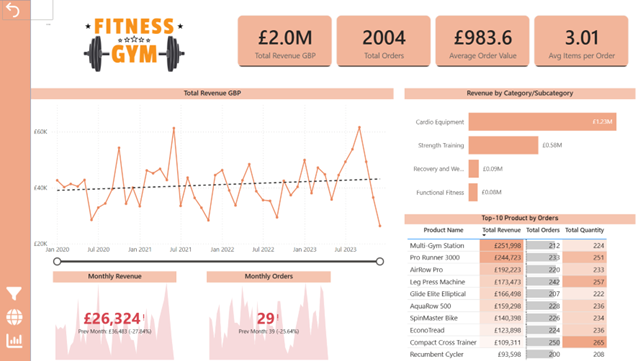

The page's visual inventory and layout, read from the dashboard file:
{"tool":"powerbi","page":{"name":"Page 1","canvas":[1280,720],"ordinal":0},"visuals":[{"type":"cardVisual","fields":{"Data":["Table Measures.Total Revenue GBP","Table Measures.Total Orders","Table Measures.Average Order Value","Table Measures.Avg Items per Order"]},"box":[467.7,25.4,789.2,113.1],"z":0},{"type":"lineChart","fields":{"Category":["date.date.Variation.Date Hierarchy.Year","date.date.Variation.Date Hierarchy.Quarter","date.date.Variation.Date Hierarchy.Month"],"Y":["Table Measures.Total Revenue GBP"]},"box":[63.6,175.5,719.1,354.5],"z":1000},{"type":"barChart","title":"Revenue by Category/Subcategory","fields":{"Category":["products.category_name Hierarchy.category_name","products.category_name Hierarchy.subcategory_name","date.date"],"Y":["Table Measures.Total Revenue GBP"]},"box":[804.6,175.6,457.8,249.8],"z":2000},{"type":"kpi","title":"Monthly Revenue","fields":{"Goal":["Table Measures.Previous Month Revenue"],"Indicator":["Table Measures.Total Revenue GBP"],"TrendLine":["date.Start of Month"]},"box":[107.3,539.3,245.4,180.8],"z":3000},{"type":"kpi","title":"Monthly Orders","fields":{"Goal":["Table Measures.Previous Month Orders"],"Indicator":["Table Measures.Total Orders"],"TrendLine":["date.Start of Month"]},"box":[412.2,539.3,246.2,180.8],"z":4000},{"type":"tableEx","title":"Top-10 Product by Revenue","fields":{"Values":["products.product_name","Table Measures.Total Revenue GBP","Table Measures.Total Orders","Table Measures.Total Quantity"]},"box":[804.6,425.4,457.8,294.6],"z":5000},{"type":"image","box":[94.6,0,347.7,175.4],"z":6000},{"type":"shape","box":[0,0,63.5,720.1],"z":7000},{"type":"actionButton","box":[7.3,0,100,40],"z":8000},{"type":"actionButton","title":"Open sel","box":[10.8,564.6,40.8,38.5],"z":9000},{"type":"actionButton","box":[10.8,610,40.8,40],"z":11000},{"type":"actionButton","box":[10.8,656.9,40.8,40],"z":12000}]}

Visuals, with their boxes in screenshot pixels (x1, y1, x2, y2), scaled from the page's 1280x720 canvas onto the 643x361 screenshot:
cardVisual - Table Measures.Total Revenue GBP x Table Measures.Total Orders: (x1=235, y1=13, x2=631, y2=69)
lineChart - date.date.Variation.Date Hierarchy.Year x date.date.Variation.Date Hierarchy.Quarter: (x1=32, y1=88, x2=393, y2=266)
"Revenue by Category/Subcategory" barChart: (x1=404, y1=88, x2=634, y2=213)
"Monthly Revenue" kpi: (x1=54, y1=270, x2=177, y2=360)
"Monthly Orders" kpi: (x1=207, y1=270, x2=331, y2=360)
"Top-10 Product by Revenue" tableEx: (x1=404, y1=213, x2=634, y2=360)
image: (x1=48, y1=0, x2=222, y2=88)
shape: (x1=0, y1=0, x2=32, y2=360)
actionButton: (x1=4, y1=0, x2=54, y2=20)
"Open sel" actionButton: (x1=5, y1=283, x2=26, y2=302)
actionButton: (x1=5, y1=306, x2=26, y2=326)
actionButton: (x1=5, y1=329, x2=26, y2=349)
